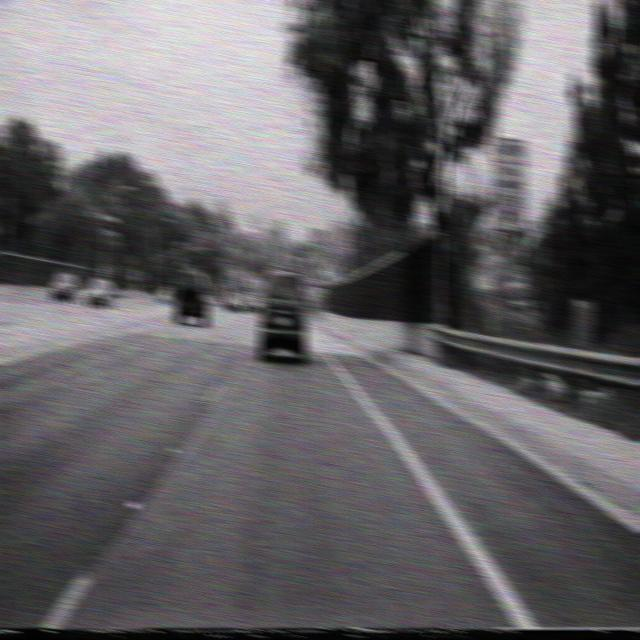pedestrianCrossing: (320, 256, 338, 284)
